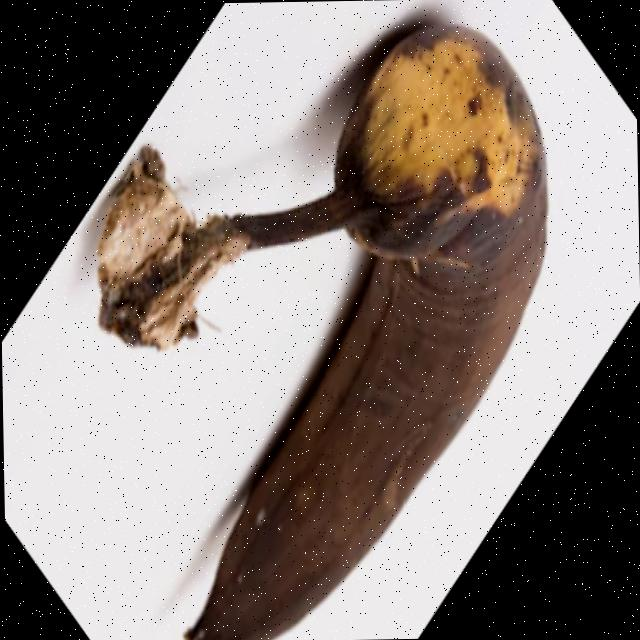Rotten: (170, 14, 552, 640)
